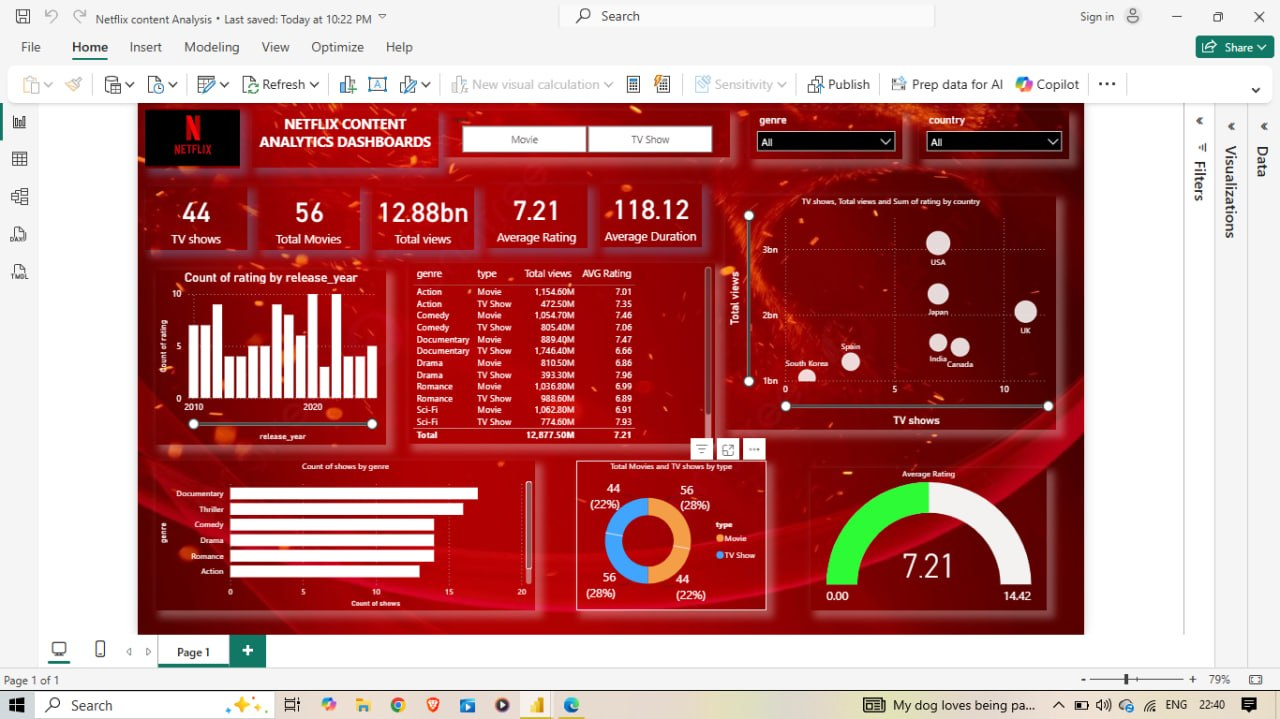

This screenshot's page, from the dashboard's own definition file:
{"tool":"powerbi","page":{"name":"Page 1","canvas":[1280,720],"ordinal":0},"visuals":[{"type":"card","fields":{"Values":["Key_measures.TV shows"]},"box":[9.5,112.2,137.7,85.7],"z":0},{"type":"slicer","fields":{"Values":["netflix_dataset.country"]},"box":[1056.6,10.1,203.3,65.5],"z":1000},{"type":"slicer","fields":{"Values":["netflix_dataset.genre"]},"box":[828.1,10.1,206.6,65.5],"z":2000},{"type":"slicer","fields":{"Values":["netflix_dataset.type"]},"box":[413.2,10.1,388,63.8],"z":3000},{"type":"card","fields":{"Values":["Key_measures.Total Movies"]},"box":[162.4,112.2,137.7,85.7],"z":4000},{"type":"card","fields":{"Values":["Key_measures.Average Rating"]},"box":[469.8,110.1,138.2,85.8],"z":5000},{"type":"card","fields":{"Values":["Key_measures.Average Duration"]},"box":[624.3,108.8,137.7,85.7],"z":6000},{"type":"clusteredColumnChart","fields":{"Category":["netflix_dataset.release_year Hierarchy.release_year"],"Y":["CountNonNull(netflix_dataset.rating)"]},"box":[23.5,225.1,312.4,236.9],"z":7000},{"type":"tableEx","fields":{"Values":["netflix_dataset.genre","netflix_dataset.type","Key_measures.Total views","Key_measures.Average Rating"]},"box":[366.2,216.7,414.9,245.2],"z":8000},{"type":"card","fields":{"Values":["Key_measures.Total views"]},"box":[316.9,112.2,137.7,85.7],"z":9000},{"type":"barChart","fields":{"Category":["netflix_dataset.genre"],"Y":["CountNonNull(netflix_dataset.show_id)"]},"box":[23.5,483.8,514,203.3],"z":10000},{"type":"donutChart","fields":{"Category":["netflix_dataset.type"],"Y":["Key_measures.Total Movies","Key_measures.TV shows"]},"box":[593,483.8,257,203.3],"z":11000},{"type":"scatterChart","fields":{"Category":["netflix_dataset.country"],"X":["Key_measures.TV shows"],"Y":["Key_measures.Total views"],"Size":["Sum(netflix_dataset.rating)"]},"box":[794.9,125.4,448,317.4],"z":12000},{"type":"gauge","fields":{"Y":["Key_measures.Average Rating"]},"box":[909.9,493.9,320,193.4],"z":13000},{"type":"textbox","box":[154.5,10.1,252,77.3],"z":14000},{"type":"image","box":[10.1,6.7,127.7,82.3],"z":15000}]}

Visuals, with their boxes on the page's 1280x720 design canvas (x1, y1, x2, y2). These are canvas units, not pixel positions in the 1280x719 screenshot, which may show the page scaled, cropped or inside an application window:
card - Key_measures.TV shows: bbox=(10, 112, 147, 198)
slicer - netflix_dataset.country: bbox=(1057, 10, 1260, 76)
slicer - netflix_dataset.genre: bbox=(828, 10, 1035, 76)
slicer - netflix_dataset.type: bbox=(413, 10, 801, 74)
card - Key_measures.Total Movies: bbox=(162, 112, 300, 198)
card - Key_measures.Average Rating: bbox=(470, 110, 608, 196)
card - Key_measures.Average Duration: bbox=(624, 109, 762, 194)
clusteredColumnChart - netflix_dataset.release_year Hierarchy.release_year x CountNonNull(netflix_dataset.rating): bbox=(24, 225, 336, 462)
tableEx - netflix_dataset.genre x netflix_dataset.type: bbox=(366, 217, 781, 462)
card - Key_measures.Total views: bbox=(317, 112, 455, 198)
barChart - netflix_dataset.genre x CountNonNull(netflix_dataset.show_id): bbox=(24, 484, 538, 687)
donutChart - netflix_dataset.type x Key_measures.Total Movies: bbox=(593, 484, 850, 687)
scatterChart - netflix_dataset.country x Key_measures.TV shows: bbox=(795, 125, 1243, 443)
gauge - Key_measures.Average Rating: bbox=(910, 494, 1230, 687)
textbox: bbox=(154, 10, 406, 87)
image: bbox=(10, 7, 138, 89)
